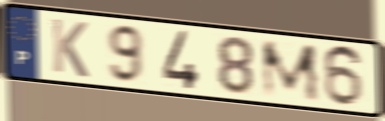4: (161, 29, 201, 91)
6: (321, 43, 369, 110)
8: (215, 34, 257, 96)
9: (105, 22, 146, 85)
K: (49, 15, 91, 80)
M: (258, 39, 323, 104)
